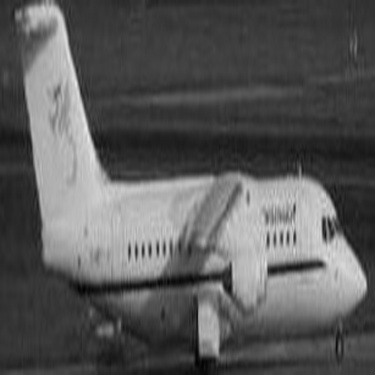airplane: (2, 6, 369, 371)
